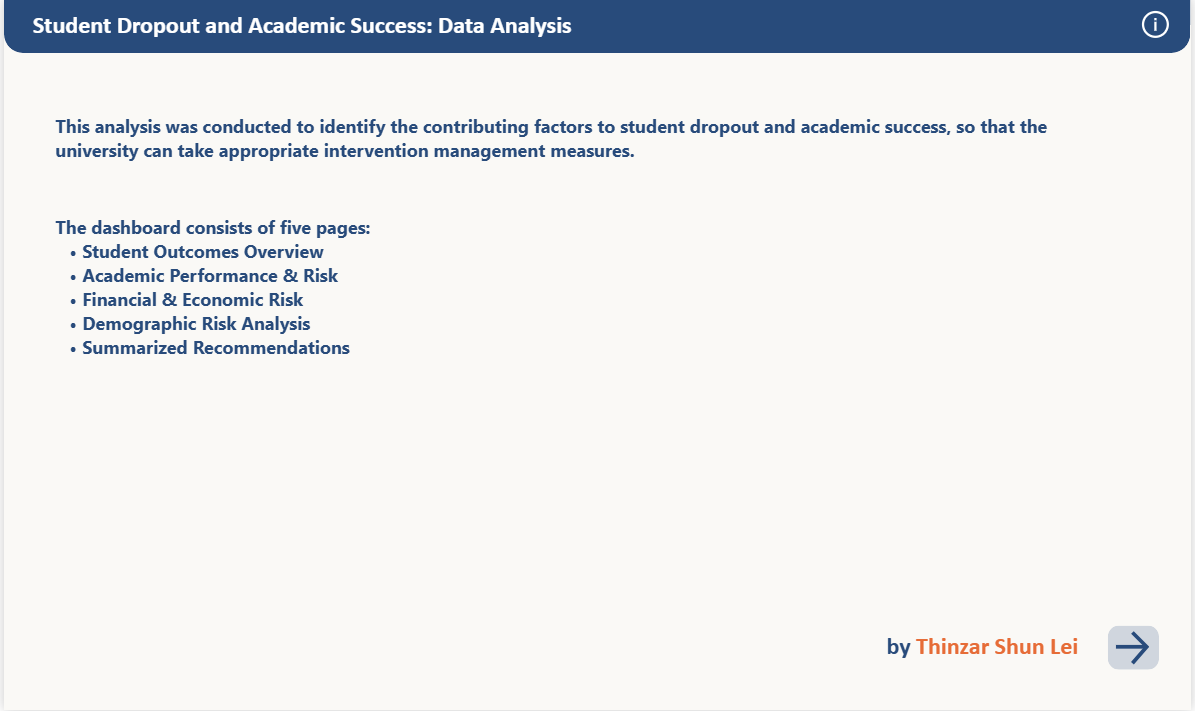

What the dashboard file says about the page in this screenshot:
{"tool":"powerbi","page":{"name":"Home","canvas":[1582,950],"ordinal":0},"visuals":[{"type":"group","id":"g1","title":"Bg-NavBar","box":[0,0,1581.7,73.3],"z":0},{"type":"textbox","box":[33.3,12.2,1077.2,49.5],"z":0,"group":"g2"},{"type":"shape","title":"Shape - Under","box":[0,0,1581.7,73.3],"z":1000,"group":"g1"},{"type":"shape","box":[0,0,1581.7,35.9],"z":2000,"group":"g1"},{"type":"actionButton","box":[1511.8,11.7,54.8,47.1],"z":3000,"group":"g2"},{"type":"textbox","box":[1171.6,840.5,291.3,60.5],"z":3000},{"type":"actionButton","box":[1472.4,837.3,68.4,58.9],"z":4000},{"type":"textbox","box":[63.3,150,1448.3,390],"z":5000},{"type":"group","id":"g2","title":"Group 3","box":[33.3,11.7,1533.3,50],"z":6000}]}

Visuals, with their boxes in screenshot pixels (x1, y1, x2, y2), scaled from the page's 1582x950 canvas onto the 1195x711 screenshot:
"Bg-NavBar" group: (0,0,1194,55)
textbox: (25,9,839,46)
"Shape - Under" shape: (0,0,1194,55)
shape: (0,0,1194,27)
actionButton: (1142,9,1183,44)
textbox: (885,629,1105,674)
actionButton: (1112,627,1164,671)
textbox: (48,112,1142,404)
"Group 3" group: (25,9,1183,46)
